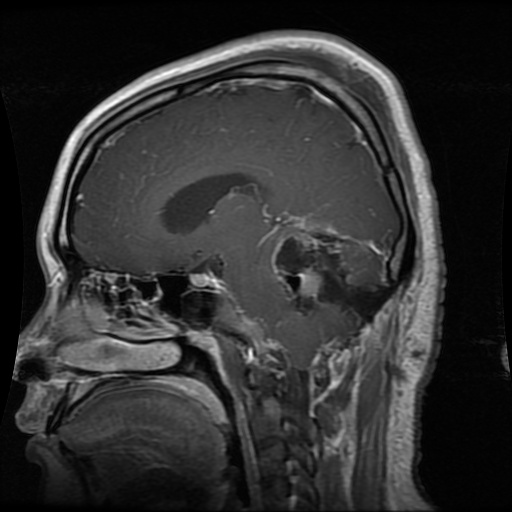glioma: (272, 230, 383, 321)
